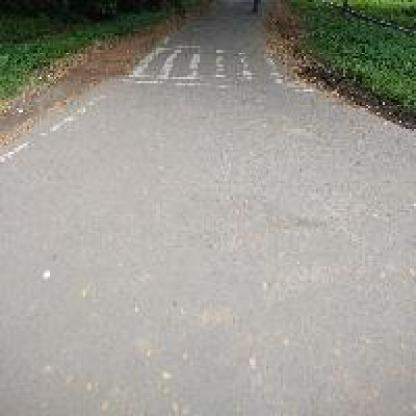Speed Bump: (125, 44, 279, 83)
